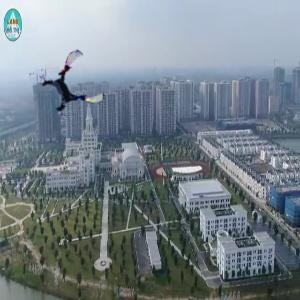drone: (42, 55, 103, 116)
